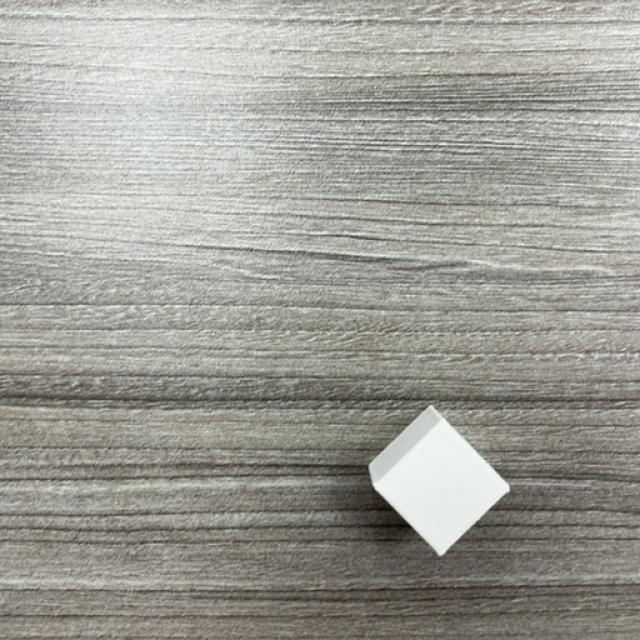Blanco: (366, 406, 510, 559)
